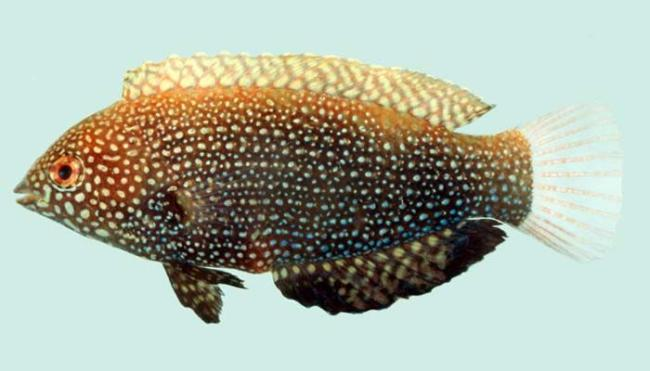fish: (13, 52, 623, 324)
